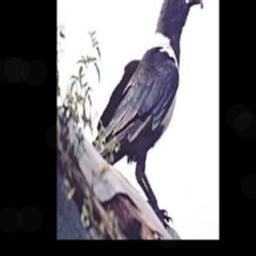Crow: (87, 0, 204, 229)
